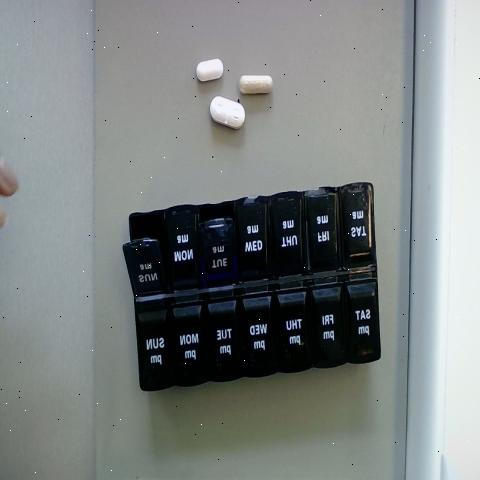FRI-am: (308, 190, 340, 276)
FRI-pm: (308, 275, 346, 364)
MON-am: (166, 202, 200, 283)
MON-pm: (172, 300, 206, 384)
Open: (123, 211, 163, 244), (200, 200, 232, 225)
Pill: (200, 95, 255, 133), (194, 44, 235, 87), (237, 64, 284, 101)
PillBox: (112, 146, 389, 417)
SAT-am: (340, 180, 372, 263)
SAT-pm: (347, 275, 376, 365)
SUN-pm: (139, 305, 172, 388)
THU-am: (268, 195, 303, 277)
THU-pm: (272, 278, 312, 368)
TUE-pm: (205, 294, 240, 380)
WED-am: (235, 194, 270, 281)
WED-pm: (239, 289, 274, 372)
